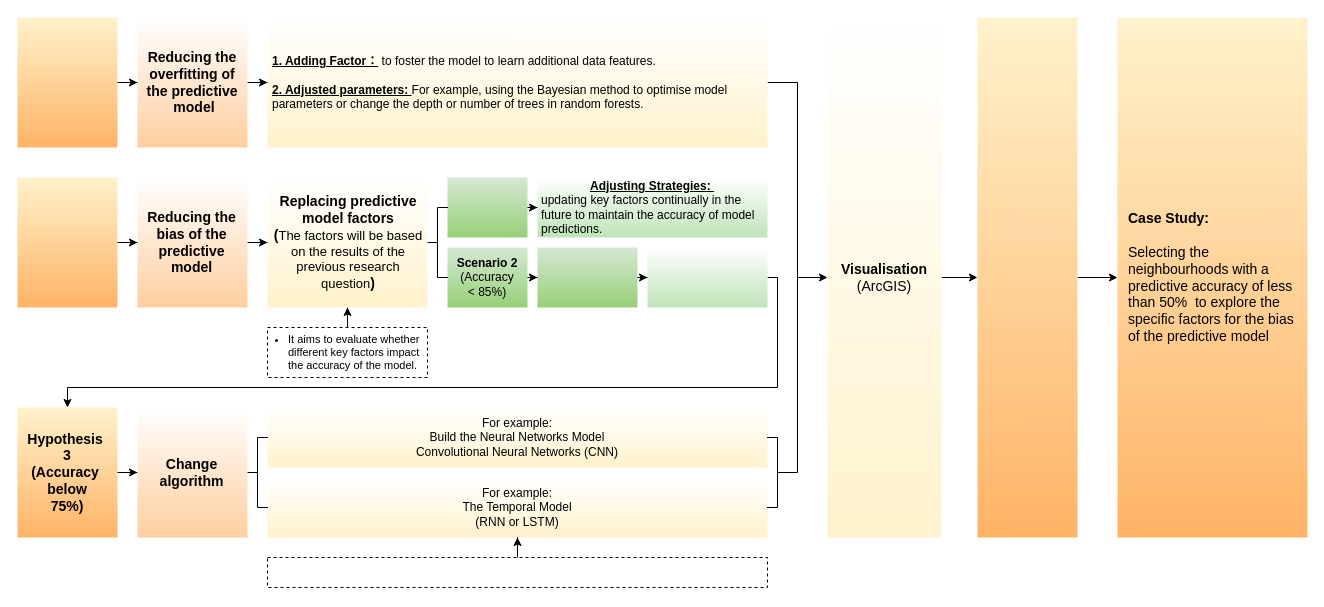
Image size: 1324x607. Some labels were removed from this diagram. The centre of each missing label's shape, as x and y in pixels:
Detecting the reason of bias within the predictive model: point (1027, 277)
Hypothesis 1 (Accuracy over 85%): point (67, 82)
Hypothesis 2 (Accuracy between 75% and 85% ): point (67, 242)
If it wouldn't help to increased the accuracy: point (707, 277)
If the data support: point (517, 572)
Replacing other tree model(i.e. XGboost): point (587, 277)
Scenario 1 (Accuracy >= 85%): point (487, 207)
